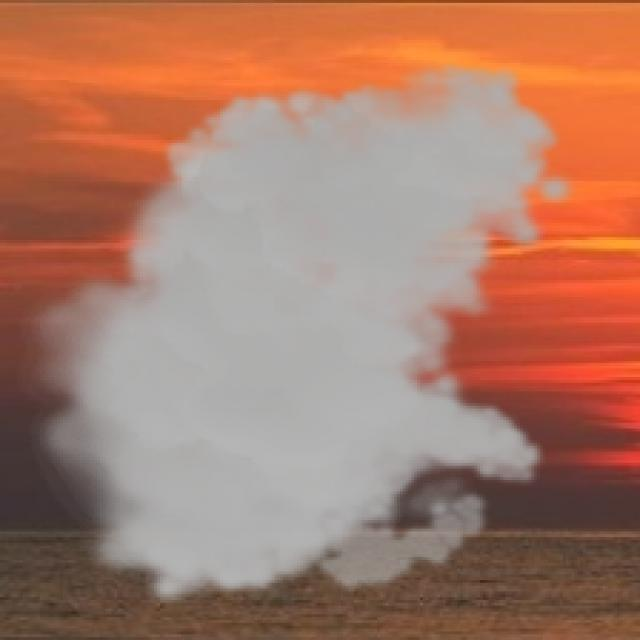Smoke: (17, 60, 580, 609)
